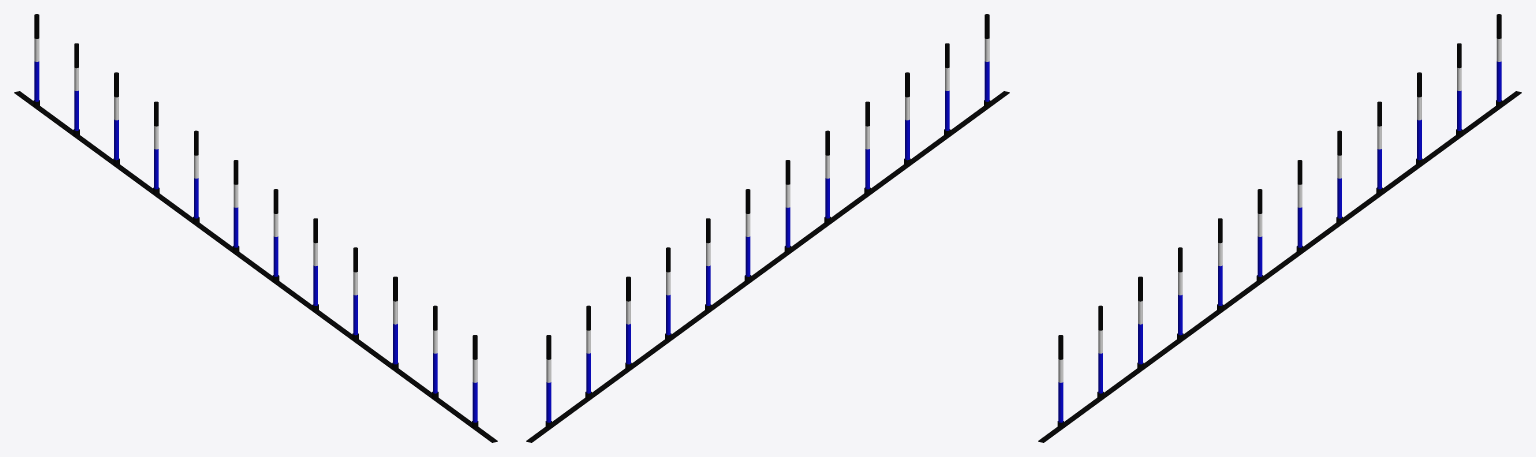
Rendered from Pole-3.gltf.
3 views of the same model, side by side, from view 1: azimuth 30°, elevation 25°; view 2: azimuth 150°, elevation 25°; view 3: azimuth 330°, elevation 25° (orthographic).
Size of the model in its own units: 0.05 by 0.763 by 7.2.
